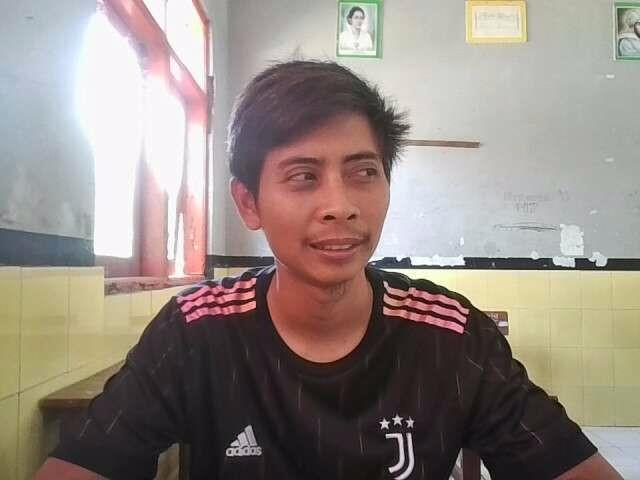cheating: (211, 51, 440, 319)
